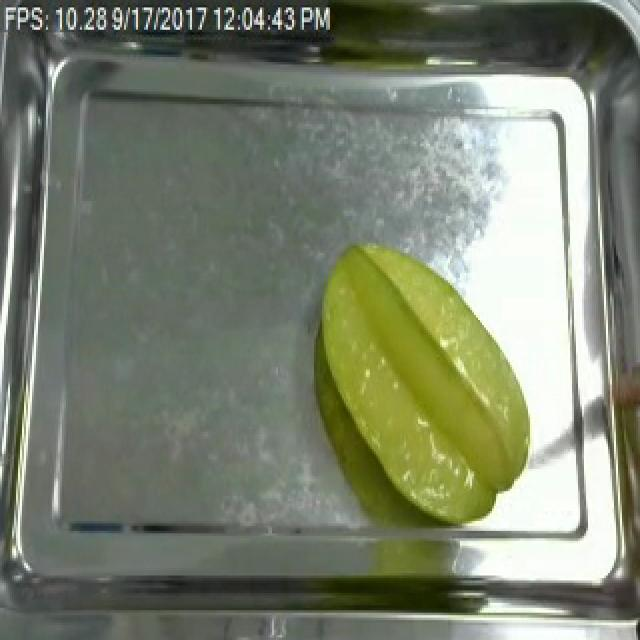fruit: (304, 233, 540, 536)
